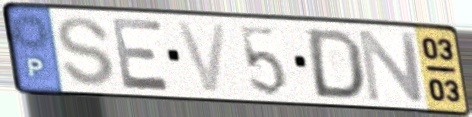5: (237, 23, 291, 98)
D: (306, 27, 365, 102)
E: (108, 15, 174, 93)
N: (356, 28, 428, 103)
S: (54, 14, 117, 89)
V: (173, 19, 231, 95)
